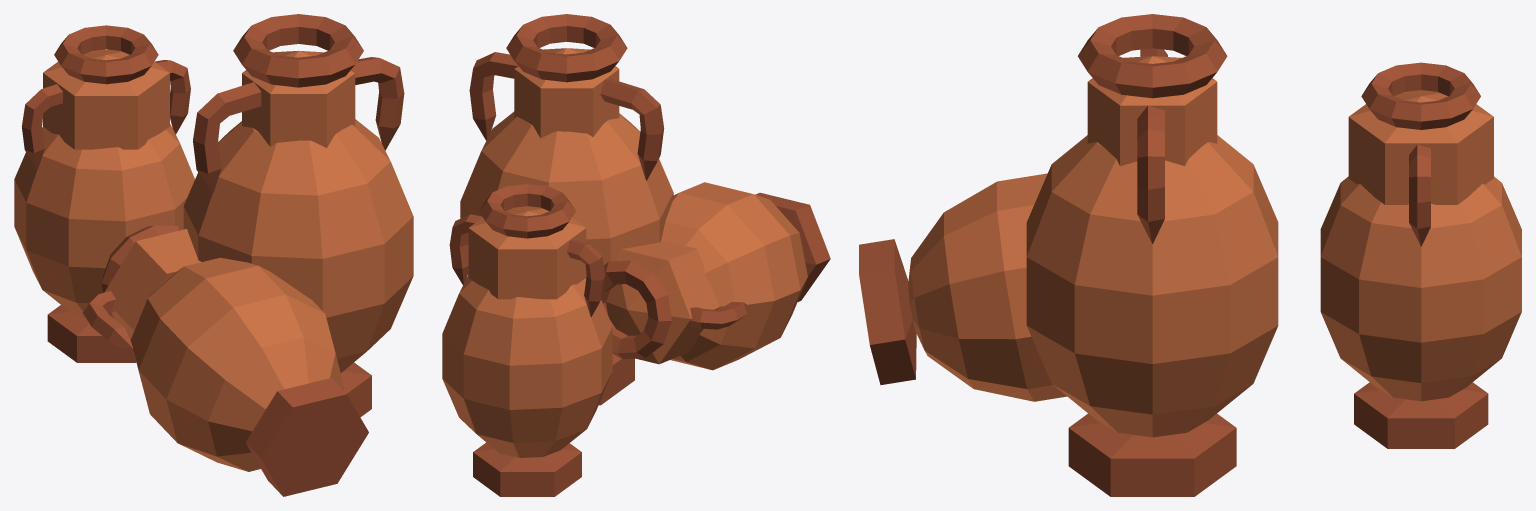
Rendered from Amphorae.glb.
3 renders of one model, left to right at view 1: azimuth 30°, elevation 25°; view 2: azimuth 150°, elevation 25°; view 3: azimuth 270°, elevation 25°, orthographic. The views are drawn at different scales.
Parts seen in each view (by area): view 1: Amphorae; view 2: Amphorae; view 3: Amphorae.
Part boxes in pixels (bbox=[...]): Amphorae: bbox=[14, 14, 413, 496]; Amphorae: bbox=[442, 14, 830, 496]; Amphorae: bbox=[859, 14, 1521, 496].
Bounding box in the file's own units: 1.4 × 1.66 × 2.34.
Materials: 1 (1 with a texture image).
